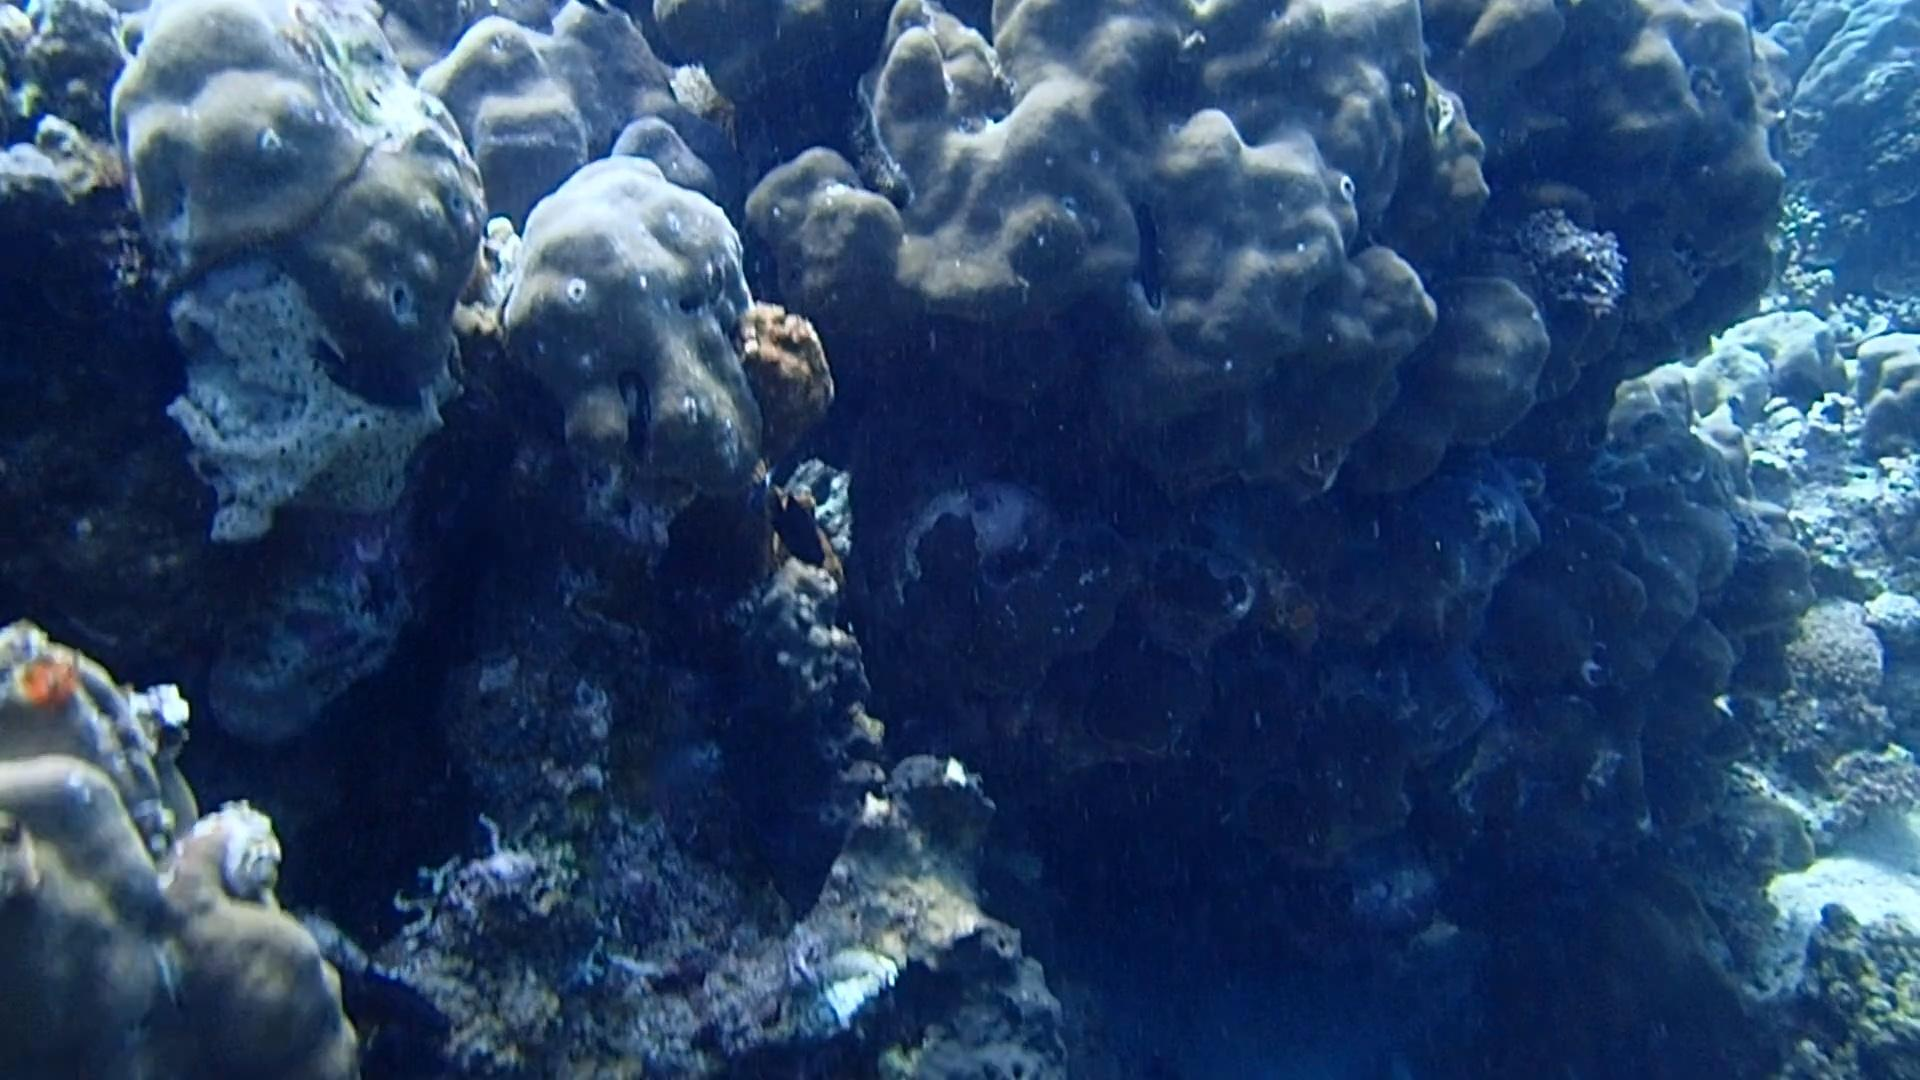Dark Fish: (328, 957, 452, 1051), (754, 479, 832, 578), (347, 1021, 455, 1080)
